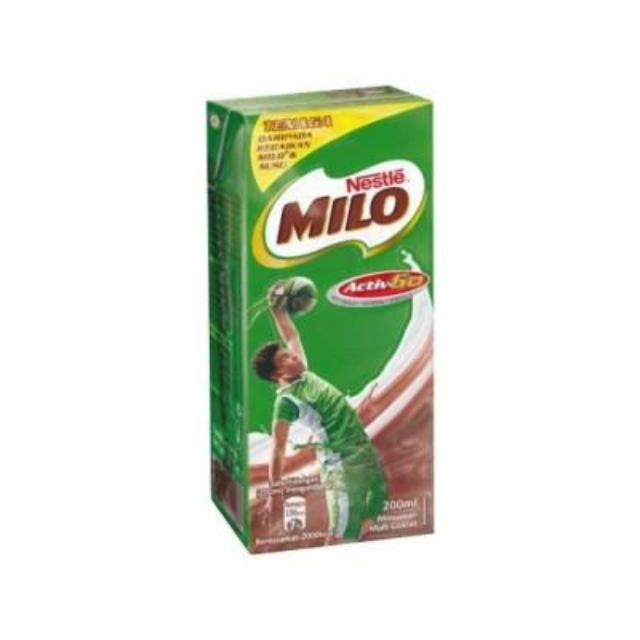caixinha: (208, 80, 434, 554)
